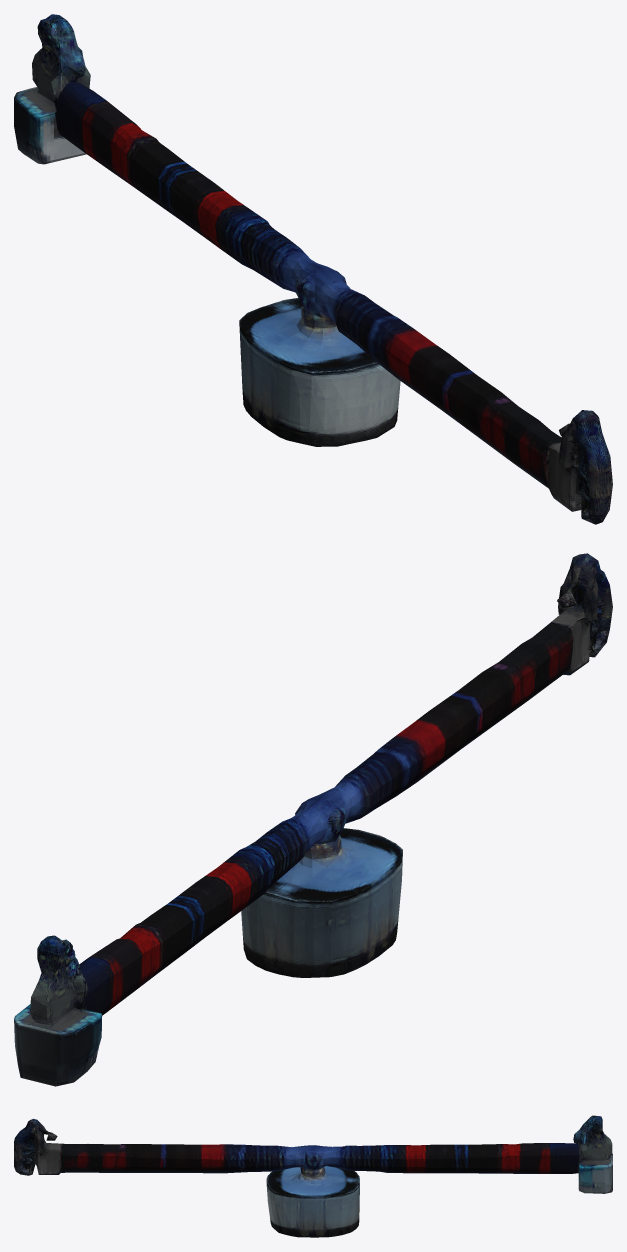
Rendered from danger_mark24.glb.
The picture shows the model from 3 angles, top to bottom: view 1: azimuth 30°, elevation 25°; view 2: azimuth 150°, elevation 25°; view 3: azimuth 270°, elevation 25°; orthographic projection. The views are drawn at different scales.
Parts seen in each view (by area): view 1: world; view 2: world; view 3: world.
Boxes of the visible parts, bbox=[...] form: world: bbox=[14, 14, 612, 524]; world: bbox=[14, 553, 612, 1086]; world: bbox=[14, 1115, 612, 1237].
Bounding box in the file's own units: 0.1241 × 0.1968 × 0.9996.
1 material, 1 textured.
